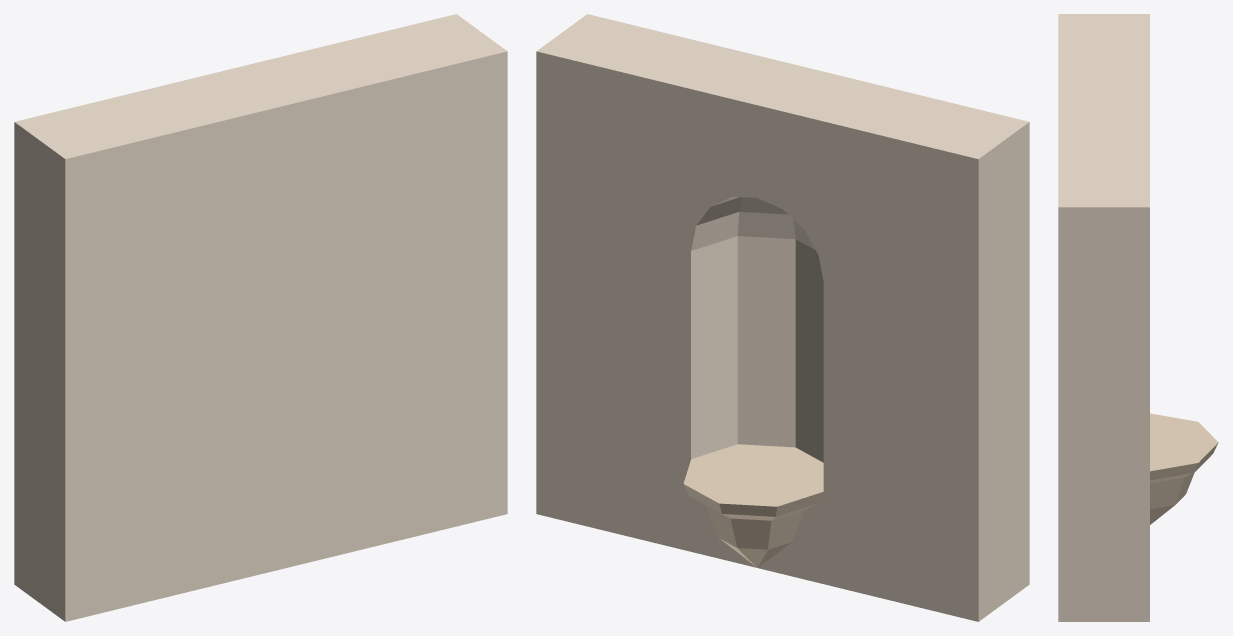
File: temple_Wall_Straight_Cubby.glb
3 renders of one model, left to right at view 1: azimuth 30°, elevation 25°; view 2: azimuth 150°, elevation 25°; view 3: azimuth 270°, elevation 25°, orthographic. The views are drawn at different scales.
Visible parts, largest first — view 1: object1; view 2: object1; view 3: object1.
Part boxes in pixels (x1=…): object1: x1=14, y1=14, x2=507, y2=621; object1: x1=536, y1=14, x2=1029, y2=621; object1: x1=1058, y1=14, x2=1218, y2=621.
Bounding box in the file's own units: 1 × 1 × 0.35.
